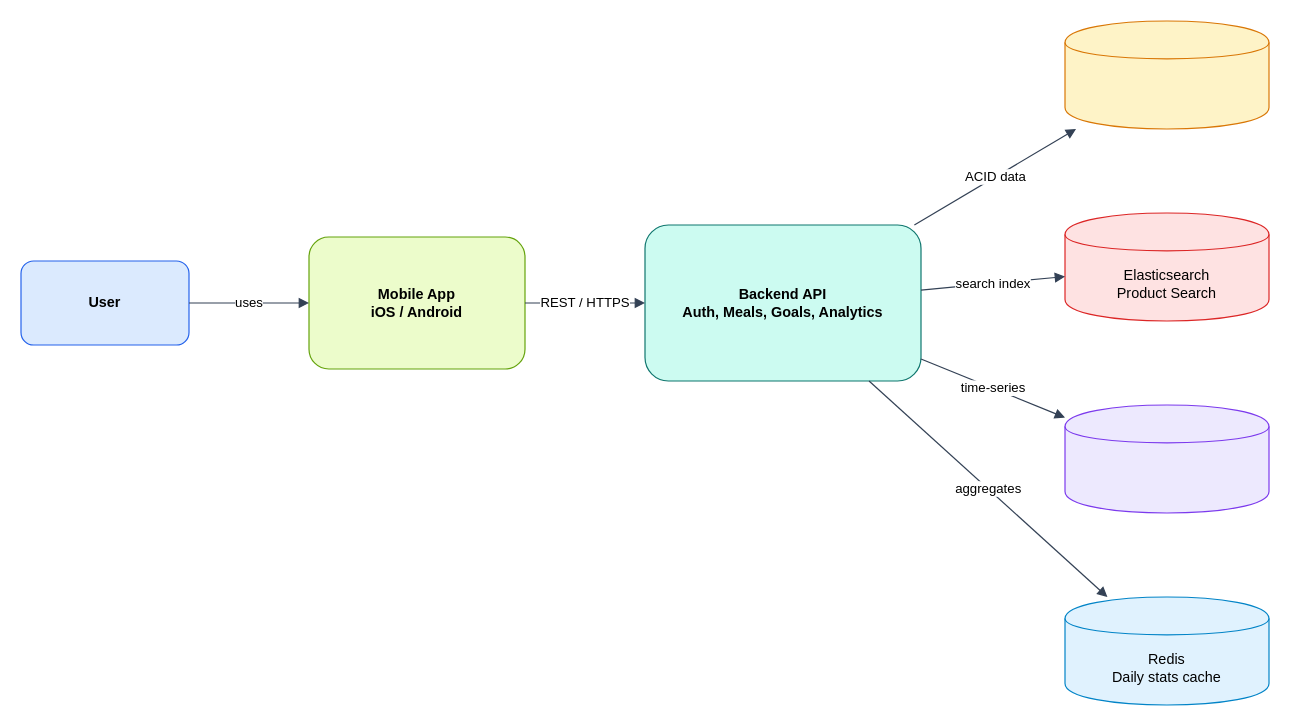
Some shapes in this 1290 by 726 pixel diagram are drawn without their labels. The box of each missing label's shape, as (x1, y1, x2, y2) in pixels:
PostgreSQL Users, Meals, MealItems, Goals: (1064, 20, 1269, 129)
TimescaleDB Weight & Time-Series: (1064, 404, 1269, 513)
